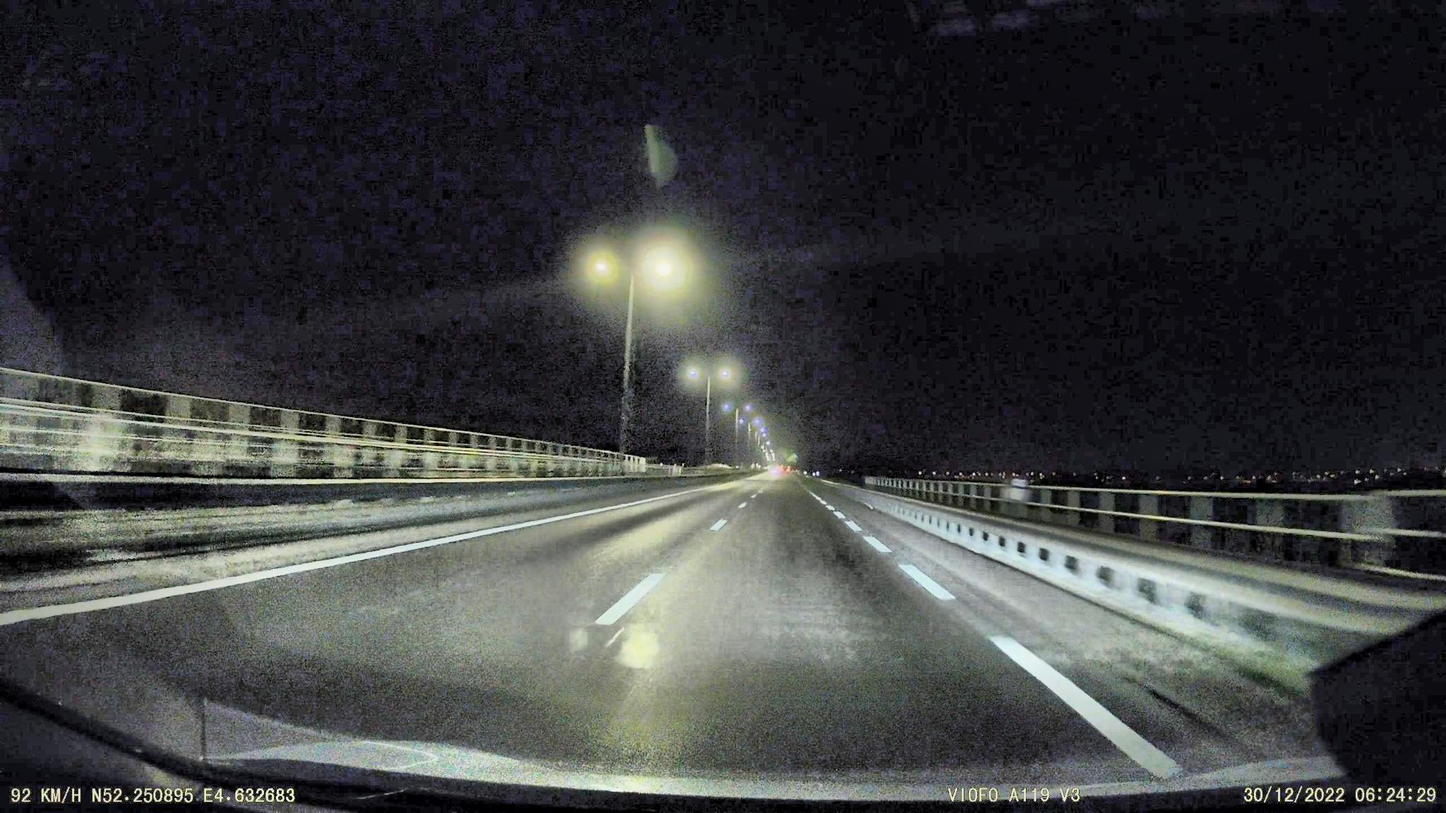Roads: (105, 475, 1170, 772)
